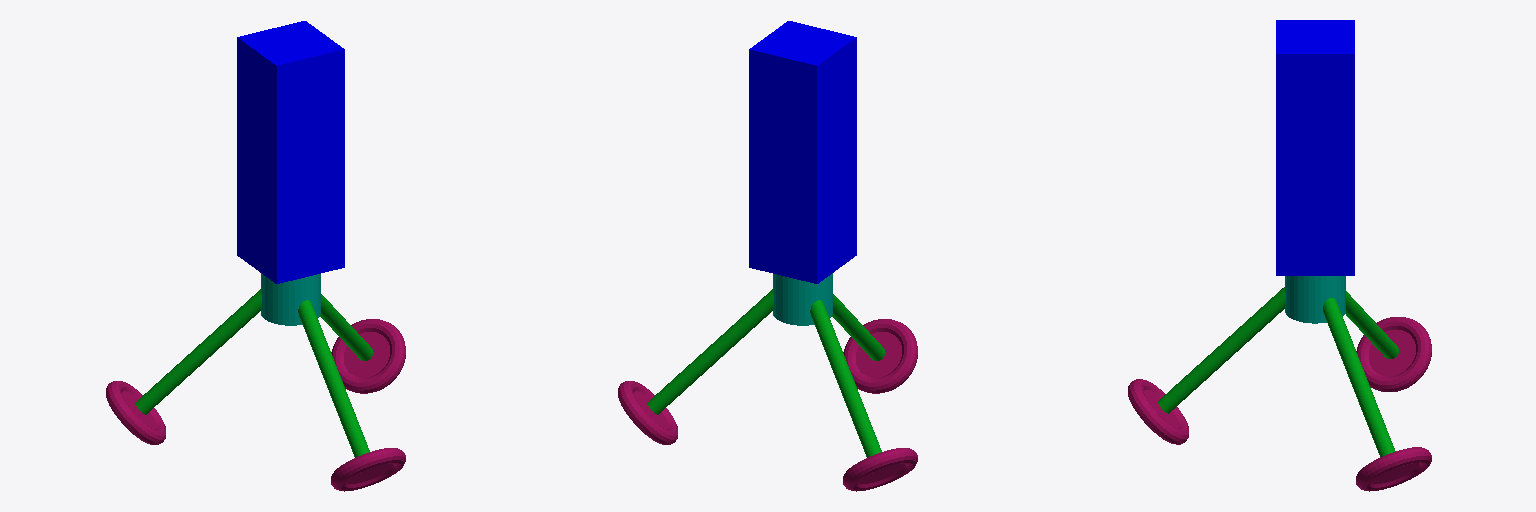
URDF robot description (bila):
<?xml version="1.0"?>
<!-- created with Phobos 1.0.1 "Capricious Choutengan" -->
  <robot name="bila">

    <link name="bogy_joint">
      <inertial>
        <origin xyz="0 0 0" rpy="0 0 0"/>
        <mass value="1.0"/>
        <inertia ixx="0.01137" ixy="0" ixz="0" iyy="0.01137" iyz="0" izz="0.00219"/>
      </inertial>
      <visual name="boby">
        <origin xyz="0 0 0" rpy="0 0 0"/>
        <geometry>
          <box size="0.77088 0.77088 2.36333"/>
        </geometry>
        <material name="body_material"/>
      </visual>
      <collision name="boby">
        <origin xyz="0 0 0" rpy="0 0 0"/>
        <geometry>
          <box size="0.77088 0.77088 2.36333"/>
        </geometry>
      </collision>
    </link>

    <link name="pipe_1_joint">
      <inertial>
        <origin xyz="0 0 0" rpy="0 0 0"/>
        <mass value="1.0"/>
        <inertia ixx="0.0061" ixy="0" ixz="0" iyy="0.0061" iyz="0" izz="0.00013"/>
      </inertial>
      <visual name="pipe_1">
        <origin xyz="0 0 0" rpy="0 0 0"/>
        <geometry>
          <mesh filename="package://model_spawner/model/bila/meshes/dae/Cube.004.dae" scale="0.44772 0.44772 0.44772"/>
        </geometry>
        <material name="pipe_material"/>
      </visual>
      <collision name="pipe_1">
        <origin xyz="0 -0.00433 -0.00514" rpy="2.35619 0 0"/>
        <geometry>
          <cylinder radius="0.08147" length="1.57426"/>
        </geometry>
      </collision>
    </link>

    <link name="pipe_2_joint">
      <inertial>
        <origin xyz="0 0 0" rpy="0 0 0"/>
        <mass value="1.0"/>
        <inertia ixx="0.00925" ixy="0" ixz="0" iyy="0.00925" iyz="0" izz="0.0064"/>
      </inertial>
      <visual name="pipe_2">
        <origin xyz="0 0 0" rpy="0 0 0"/>
        <geometry>
          <mesh filename="package://model_spawner/model/bila/meshes/dae/Cube.002.dae" scale="0.44772 0.44772 0.44772"/>
        </geometry>
        <material name="pipe_material"/>
      </visual>
      <collision name="pipe_2">
        <origin xyz="0.16629 0.09665 -0.1917" rpy="0 -0.7854 0.51842"/>
        <geometry>
          <cylinder radius="0.08317" length="1.55402"/>
        </geometry>
      </collision>
    </link>

    <link name="pipe_3_joint">
      <inertial>
        <origin xyz="0 0 0" rpy="0 0 0"/>
        <mass value="1.0"/>
        <inertia ixx="0.00925" ixy="0" ixz="0" iyy="0.00925" iyz="0" izz="0.0064"/>
      </inertial>
      <visual name="pipe_3">
        <origin xyz="0 0 0" rpy="0 0 0"/>
        <geometry>
          <mesh filename="package://model_spawner/model/bila/meshes/dae/Cube.003.dae" scale="0.44772 0.44772 0.44772"/>
        </geometry>
        <material name="pipe_material"/>
      </visual>
      <collision name="pipe_3">
        <origin xyz="-0.17186 0.09988 -0.19838" rpy="-0.04261 0.77963 -0.58647"/>
        <geometry>
          <cylinder radius="0.08394" length="1.55229"/>
        </geometry>
      </collision>
    </link>

    <link name="pipe_merge_joint">
      <inertial>
        <origin xyz="0 0 0" rpy="0 0 0"/>
        <mass value="1.0"/>
        <inertia ixx="0.00039" ixy="0" ixz="0" iyy="0.00039" iyz="0" izz="0.00034"/>
      </inertial>
      <visual name="pipe_merge">
        <origin xyz="0 0 0" rpy="0 0 0"/>
        <geometry>
          <cylinder radius="0.29623" length="0.59246"/>
        </geometry>
        <material name="pipe_merge_material"/>
      </visual>
      <collision name="pipe_merge">
        <origin xyz="0 0 0" rpy="0 0 0"/>
        <geometry>
          <cylinder radius="0.29623" length="0.59246"/>
        </geometry>
      </collision>
    </link>

    <link name="wheel_1_link">
      <inertial>
        <origin xyz="0 0 0" rpy="0 0 0"/>
        <mass value="1.0"/>
        <inertia ixx="0.00396" ixy="0" ixz="0" iyy="0.00581" iyz="0.00185" izz="0.00581"/>
      </inertial>
      <visual name="wheel_1">
        <origin xyz="0 0 0" rpy="0 0 0"/>
        <geometry>
          <mesh filename="package://model_spawner/model/bila/meshes/dae/wheel_1_mesh.dae" scale="0.31362 0.31362 0.31362"/>
        </geometry>
        <material name="wheel_material"/>
      </visual>
      <collision name="wheel_1">
        <origin xyz="0 0 0" rpy="3.14159 0 0"/>
        <geometry>
          <cylinder radius="0.39203" length="0.16701"/>
        </geometry>
      </collision>
    </link>

    <link name="wheel_2_link">
      <inertial>
        <origin xyz="0 0 0" rpy="0 0 0"/>
        <mass value="1.0"/>
        <inertia ixx="0.00535" ixy="0.0008" ixz="-0.0016" iyy="0.00442" iyz="-0.00092" izz="0.00581"/>
      </inertial>
      <visual name="wheel_2">
        <origin xyz="0 0 0" rpy="0 0 0"/>
        <geometry>
          <mesh filename="package://model_spawner/model/bila/meshes/dae/wheel_2_mesh.dae" scale="0.31362 0.31362 0.31362"/>
        </geometry>
        <material name="wheel_material"/>
      </visual>
      <collision name="wheel_2">
        <origin xyz="0 0 0" rpy="-0.00366 0 -1.57446"/>
        <geometry>
          <cylinder radius="0.39203" length="0.15845"/>
        </geometry>
      </collision>
    </link>

    <link name="wheel_3_link">
      <inertial>
        <origin xyz="0 0 0" rpy="0 0 0"/>
        <mass value="1.0"/>
        <inertia ixx="0.00535" ixy="-0.0008" ixz="0.0016" iyy="0.00442" iyz="-0.00092" izz="0.00581"/>
      </inertial>
      <visual name="wheel_3">
        <origin xyz="0 0 0" rpy="0 0 0"/>
        <geometry>
          <mesh filename="package://model_spawner/model/bila/meshes/dae/wheel_3_mesh.dae" scale="0.31362 0.31362 0.31362"/>
        </geometry>
        <material name="wheel_material"/>
      </visual>
      <collision name="wheel_3">
        <origin xyz="0 0 0" rpy="0.00184 -0.00477 1.5261"/>
        <geometry>
          <cylinder radius="0.39203" length="0.16059"/>
        </geometry>
      </collision>
    </link>

    <joint name="pipe_1_joint" type="fixed">
      <origin xyz="0 -0.68877 -0.5478" rpy="0 0 0"/>
      <parent link="pipe_merge_joint"/>
      <child link="pipe_1_joint"/>
    </joint>

    <joint name="pipe_2_joint" type="fixed">
      <origin xyz="0.59649 0.34439 -0.5478" rpy="0 0 0"/>
      <parent link="pipe_merge_joint"/>
      <child link="pipe_2_joint"/>
    </joint>

    <joint name="pipe_3_joint" type="fixed">
      <origin xyz="-0.59649 0.34439 -0.5478" rpy="0 0 0"/>
      <parent link="pipe_merge_joint"/>
      <child link="pipe_3_joint"/>
    </joint>

    <joint name="pipe_merge_joint" type="fixed">
      <origin xyz="0 0 -1.44067" rpy="0 0 0"/>
      <parent link="bogy_joint"/>
      <child link="pipe_merge_joint"/>
    </joint>

    <joint name="wheel_1_joint" type="continuous">
      <origin xyz="0 -0.82883 -0.82883" rpy="-0.7854 0 0"/>
      <parent link="pipe_1_joint"/>
      <child link="wheel_1_link"/>
      <axis xyz="0 0 1.0"/>
      <limit effort="1.0" velocity="2.0"/>
    </joint>

    <joint name="wheel_2_joint" type="continuous">
      <origin xyz="0.71779 0.41442 -0.82883" rpy="-0.7854 0 2.0944"/>
      <parent link="pipe_2_joint"/>
      <child link="wheel_2_link"/>
      <axis xyz="0 0 1.0"/>
      <limit effort="1.0" velocity="2.0"/>
    </joint>

    <joint name="wheel_3_joint" type="continuous">
      <origin xyz="-0.71779 0.41442 -0.82883" rpy="-0.7854 0 -2.0944"/>
      <parent link="pipe_3_joint"/>
      <child link="wheel_3_link"/>
      <axis xyz="0 0 1.0"/>
      <limit effort="1.0" velocity="2.0"/>
    </joint>

    <material name="body_material">
      <color rgba="0 0 1 1.0"/>
    </material>

    <material name="pipe_material">
      <color rgba="0.02743 0.64 0.12293 1.0"/>
    </material>

    <material name="pipe_merge_material">
      <color rgba="0.00609 0.64 0.56867 1.0"/>
    </material>

    <material name="wheel_material">
      <color rgba="0.64 0.10136 0.39169 1.0"/>
    </material>

  </robot>

--- What the picture shows (computed from the rendered views, not written in the file) ---
Views: 3 orthographic renders of the robot side by side, from view 1: azimuth 30°, elevation 25°; view 2: azimuth 150°, elevation 25°; view 3: azimuth 270°, elevation 25°.
Robot: bila — 8 links, 7 joints (3 continuous, 4 fixed); root link bogy_joint; default pose: every joint at zero.
Links seen in each view (by area): view 1: bogy_joint, wheel_2_link, pipe_3_joint, pipe_1_joint, pipe_merge_joint, wheel_1_link, wheel_3_link, pipe_2_joint; view 2: bogy_joint, wheel_1_link, pipe_2_joint, pipe_3_joint, pipe_merge_joint, wheel_3_link, wheel_2_link, pipe_1_joint; view 3: bogy_joint, wheel_3_link, pipe_1_joint, pipe_2_joint, pipe_merge_joint, wheel_2_link, wheel_1_link, pipe_3_joint.
Boxes of the visible links, bbox=[...] form: bogy_joint: bbox=[237, 21, 344, 283]; wheel_2_link: bbox=[331, 319, 405, 393]; pipe_3_joint: bbox=[135, 289, 261, 414]; pipe_1_joint: bbox=[298, 300, 369, 457]; pipe_merge_joint: bbox=[261, 273, 320, 325]; wheel_1_link: bbox=[331, 448, 405, 491]; wheel_3_link: bbox=[106, 381, 165, 444]; pipe_2_joint: bbox=[320, 294, 373, 360]; bogy_joint: bbox=[749, 21, 856, 283]; wheel_1_link: bbox=[843, 319, 917, 393]; pipe_2_joint: bbox=[647, 289, 773, 414]; pipe_3_joint: bbox=[810, 300, 881, 457]; pipe_merge_joint: bbox=[773, 273, 832, 325]; wheel_3_link: bbox=[843, 448, 917, 491]; wheel_2_link: bbox=[618, 381, 677, 444]; pipe_1_joint: bbox=[832, 294, 885, 360]; bogy_joint: bbox=[1276, 20, 1354, 275]; wheel_3_link: bbox=[1356, 317, 1431, 391]; pipe_1_joint: bbox=[1158, 287, 1285, 413]; pipe_2_joint: bbox=[1323, 298, 1395, 456]; pipe_merge_joint: bbox=[1285, 276, 1345, 323]; wheel_2_link: bbox=[1356, 447, 1431, 491]; wheel_1_link: bbox=[1128, 379, 1188, 444]; pipe_3_joint: bbox=[1345, 291, 1398, 358].
Size in the robot's own frame: 3.28 by 2.94 by 4.3 metres.
6 mesh visuals loaded from 6 distinct referenced files (6 Collada DAE).